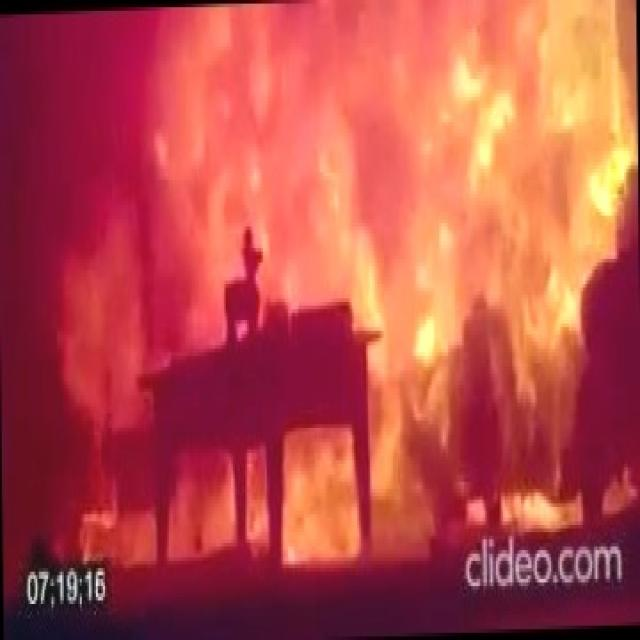fire: (67, 0, 640, 539)
